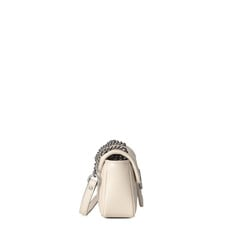Gucci: (82, 135, 153, 222)
